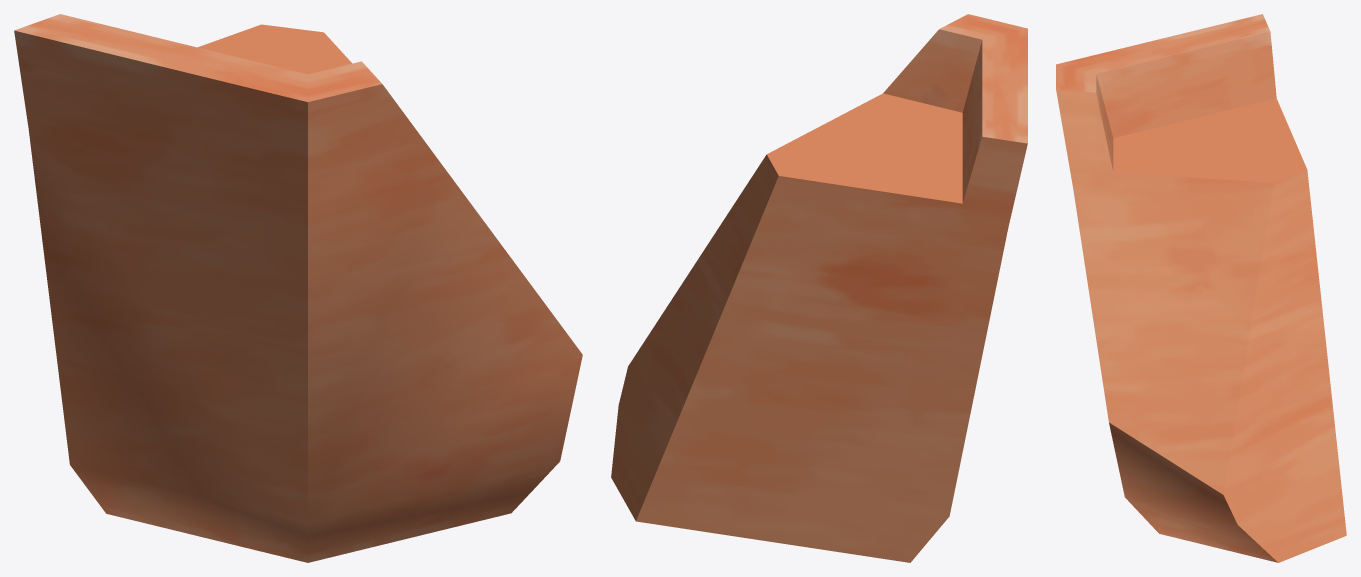
The model's file is potted_plant_s00.fbx.
3 renders of one model, left to right at view 1: azimuth 30°, elevation 25°; view 2: azimuth 150°, elevation 25°; view 3: azimuth 270°, elevation 25°, orthographic. The views are drawn at different scales.
Parts seen in each view (by area): view 1: potted_plant_s00; view 2: potted_plant_s00; view 3: potted_plant_s00.
Boxes of the visible parts, box(x1,y1,x2,y2) form: potted_plant_s00: box(14, 14, 582, 562); potted_plant_s00: box(611, 14, 1027, 562); potted_plant_s00: box(1056, 14, 1346, 562).
Bounding box in the file's own units: 1.3 × 1.25 × 0.8796.
